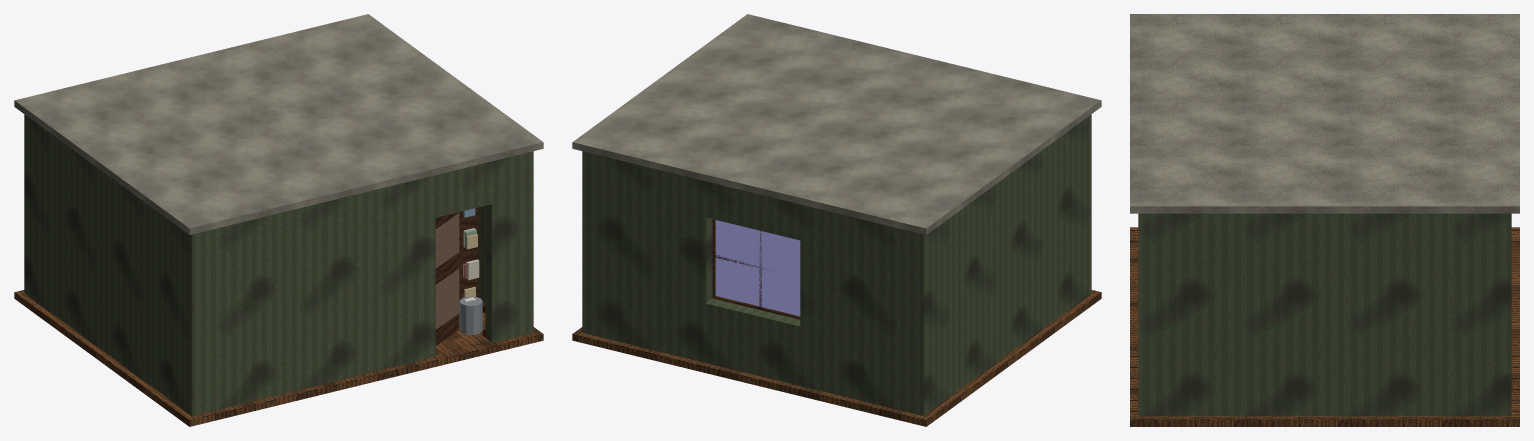
Rendered from ep_telefone.glb.
The picture shows the model from 3 angles, left to right: view 1: azimuth 30°, elevation 25°; view 2: azimuth 150°, elevation 25°; view 3: azimuth 270°, elevation 25°; orthographic projection. The views are drawn at different scales.
Visible parts, largest first — view 1: wallpaper-col, plaster-col, parquet-col, flat, wood_dark, flat.028-col, wood_dark-col; view 2: wallpaper-col, plaster-col, flat.002, parquet-col, wood_dark; view 3: plaster-col, wallpaper-col, parquet-col.
Boxes of the visible parts, left/top/right/bottom form: wallpaper-col: left=24, top=114, right=533, bottom=415; plaster-col: left=14, top=14, right=543, bottom=234; parquet-col: left=14, top=290, right=543, bottom=426; flat: left=435, top=213, right=459, bottom=329; wood_dark: left=435, top=211, right=485, bottom=345; flat.028-col: left=459, top=296, right=482, bottom=334; wood_dark-col: left=462, top=207, right=478, bottom=297; wallpaper-col: left=582, top=114, right=1091, bottom=415; plaster-col: left=572, top=14, right=1101, bottom=234; flat.002: left=715, top=220, right=800, bottom=316; parquet-col: left=572, top=290, right=1101, bottom=426; wood_dark: left=712, top=219, right=800, bottom=319; plaster-col: left=1130, top=14, right=1519, bottom=213; wallpaper-col: left=1138, top=213, right=1511, bottom=416; parquet-col: left=1130, top=227, right=1519, bottom=426.
Bounding box in the file's own units: 5.6 × 3 × 4.8.
39 materials, 8 textured.
